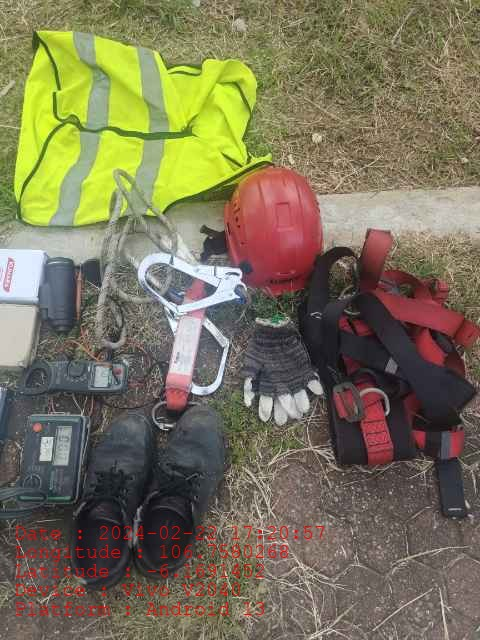HELM: (228, 172, 321, 293)
ROMPI: (24, 26, 259, 217)
SARUNG TANGAN: (246, 313, 321, 424)
